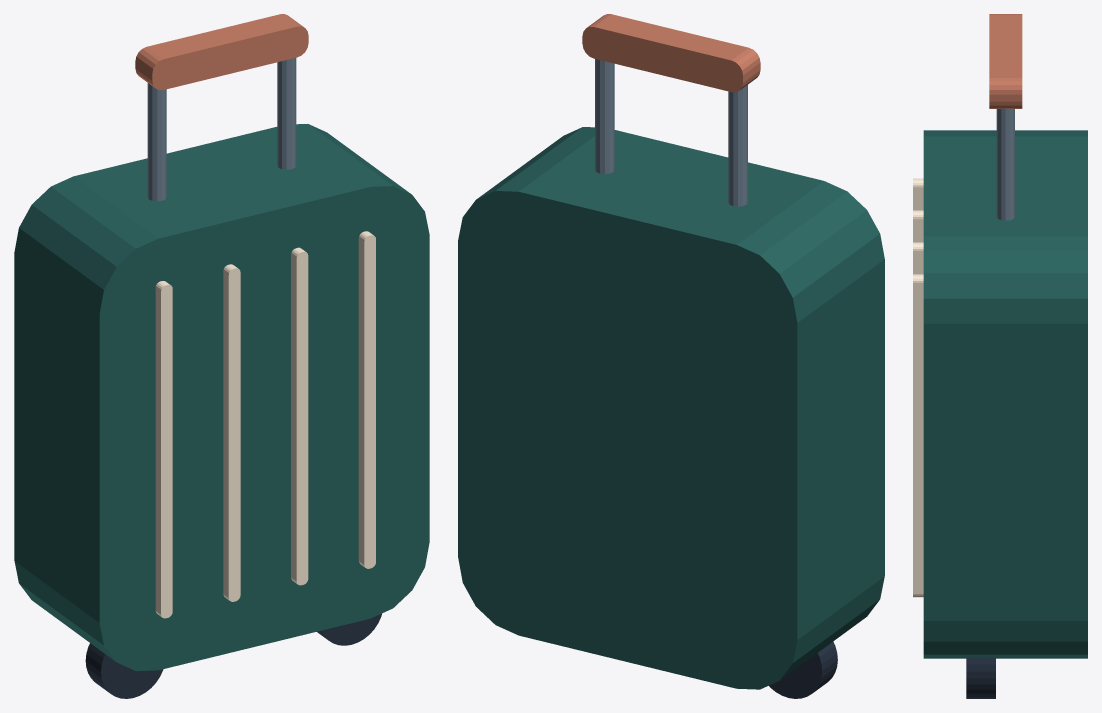
Rendered from suitcase.glb.
The picture shows the model from 3 angles, left to right: view 1: azimuth 30°, elevation 25°; view 2: azimuth 150°, elevation 25°; view 3: azimuth 270°, elevation 25°; orthographic projection. The views are drawn at different scales.
Visible parts, largest first — view 1: hard shell, handle grip, rib 1, rib 0, rib 2, rib 3, telescopic -0.22, telescopic 0.22, caster -0.37, caster 0.37; view 2: hard shell, handle grip, telescopic -0.22, telescopic 0.22, caster -0.37; view 3: hard shell, rib 3, handle grip, telescopic 0.22, caster 0.37, rib 0, rib 1, rib 2.
Boxes of the visible parts, left/top/right/bottom form: hard shell: left=14, top=124, right=429, bottom=671; handle grip: left=135, top=14, right=308, bottom=90; rib 1: left=223, top=264, right=240, bottom=601; rib 0: left=155, top=281, right=172, bottom=618; rib 2: left=291, top=247, right=308, bottom=585; rib 3: left=358, top=231, right=375, bottom=568; telescopic -0.22: left=147, top=83, right=166, bottom=201; telescopic 0.22: left=277, top=58, right=296, bottom=169; caster -0.37: left=85, top=643, right=163, bottom=698; caster 0.37: left=317, top=613, right=381, bottom=645; hard shell: left=458, top=127, right=884, bottom=689; handle grip: left=582, top=14, right=760, bottom=92; telescopic -0.22: left=728, top=85, right=747, bottom=206; telescopic 0.22: left=595, top=59, right=614, bottom=174; caster -0.37: left=769, top=641, right=837, bottom=698; hard shell: left=923, top=130, right=1087, bottom=658; rib 3: left=913, top=274, right=923, bottom=597; handle grip: left=989, top=14, right=1022, bottom=108; telescopic 0.22: left=996, top=108, right=1014, bottom=220; caster 0.37: left=966, top=657, right=995, bottom=698; rib 0: left=913, top=178, right=923, bottom=210; rib 1: left=913, top=210, right=923, bottom=242; rib 2: left=913, top=242, right=923, bottom=274.
Size of the model in its own units: 1.12 by 2.01 by 0.5325.
